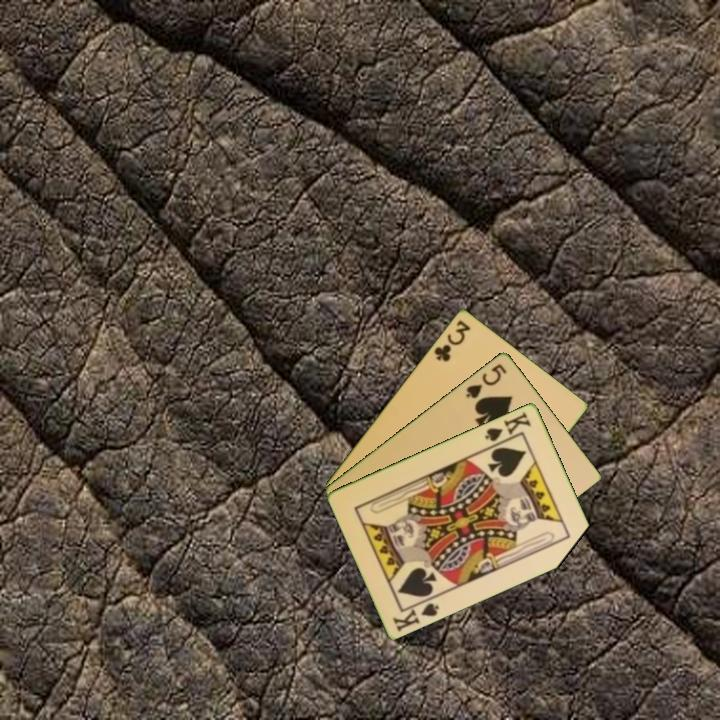3c: (430, 316, 473, 365)
5s: (463, 360, 509, 401)
Ks: (481, 408, 534, 449), (389, 593, 442, 634)
